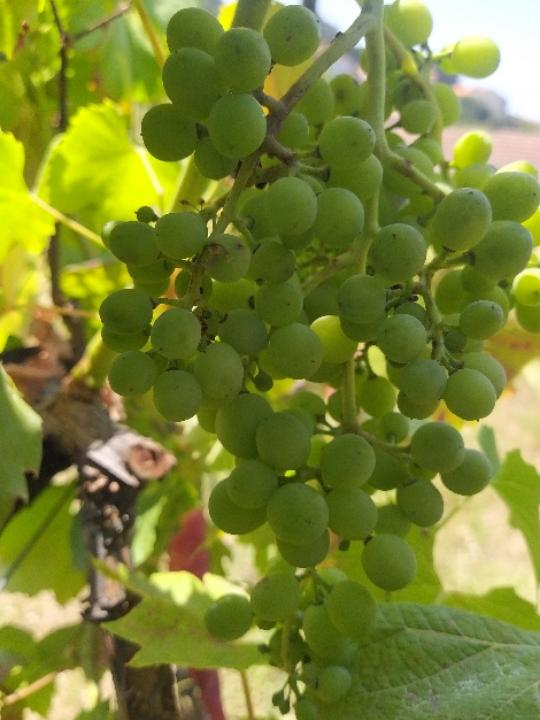grape: (95, 0, 540, 720)
